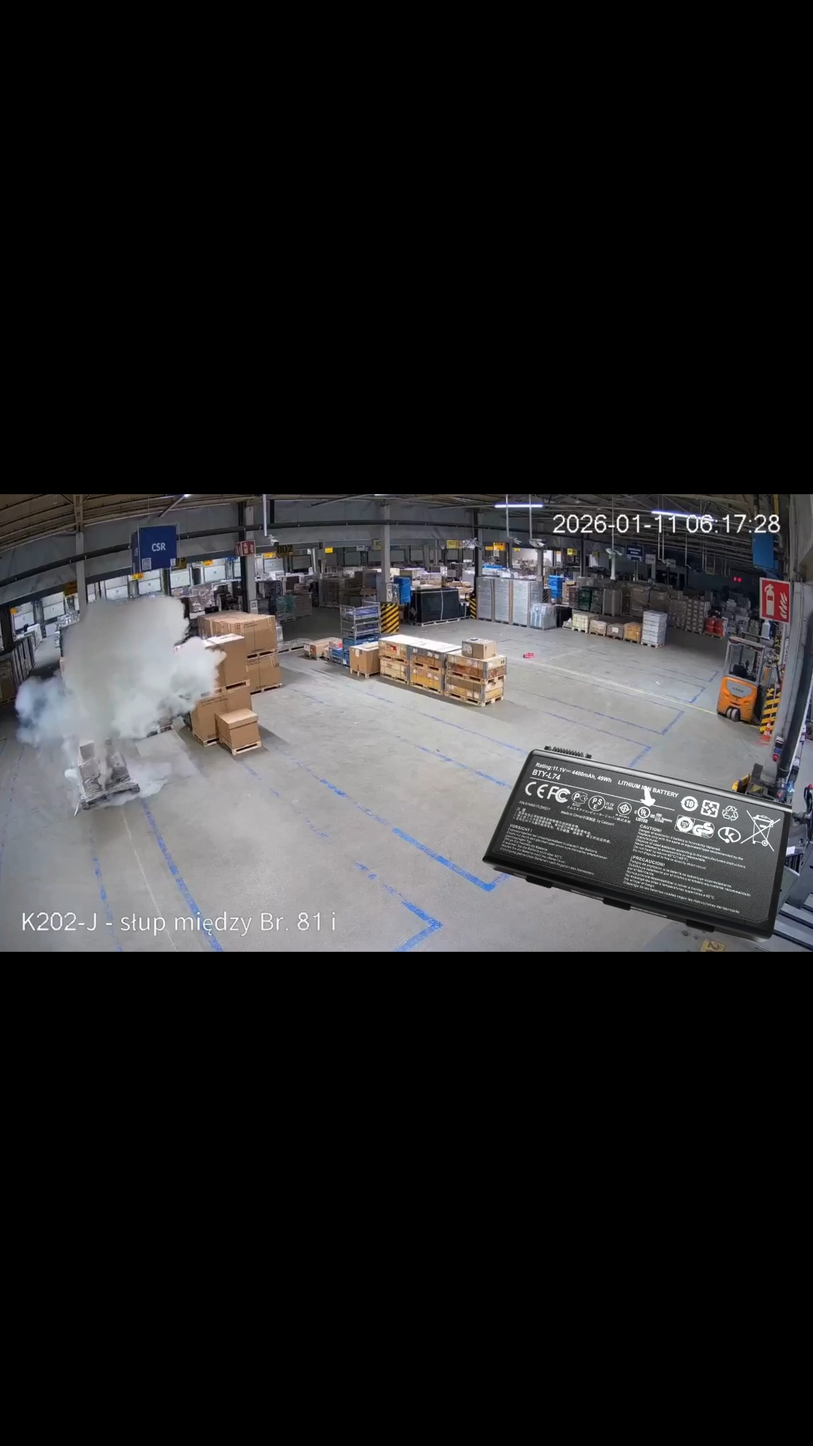smoke: (14, 590, 223, 792)
